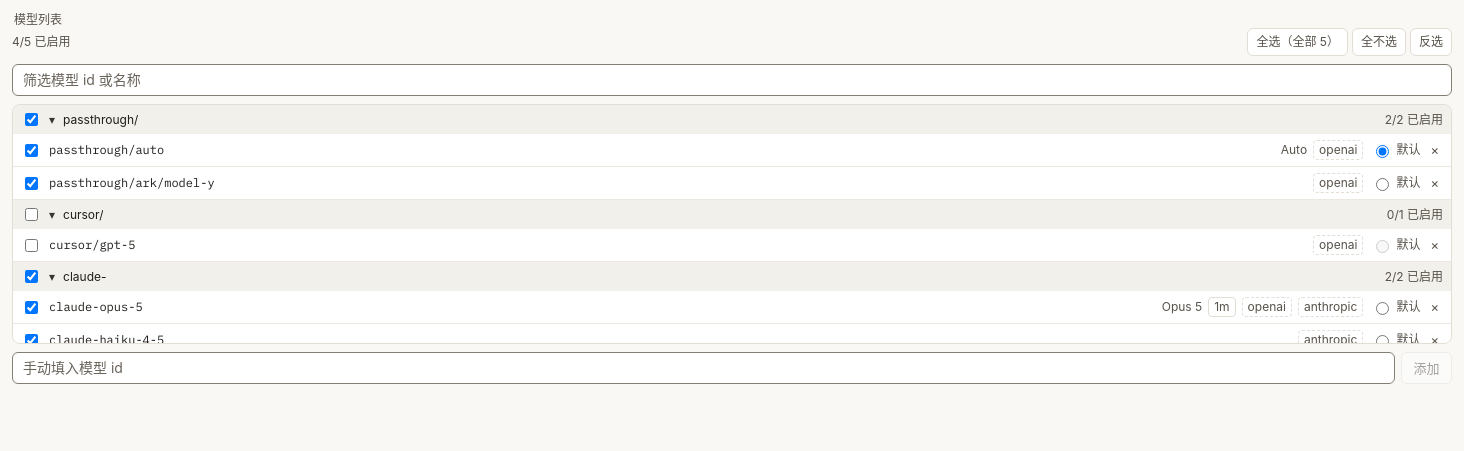
Test case: ModelList bulk controls › undoes one bulk action, including the default it moved
The width and height of the screenshot is (1464, 451).
Step 1. Click the button with test id "provider-models-none" → x=1379, y=42, box [1352,28,1406,56]
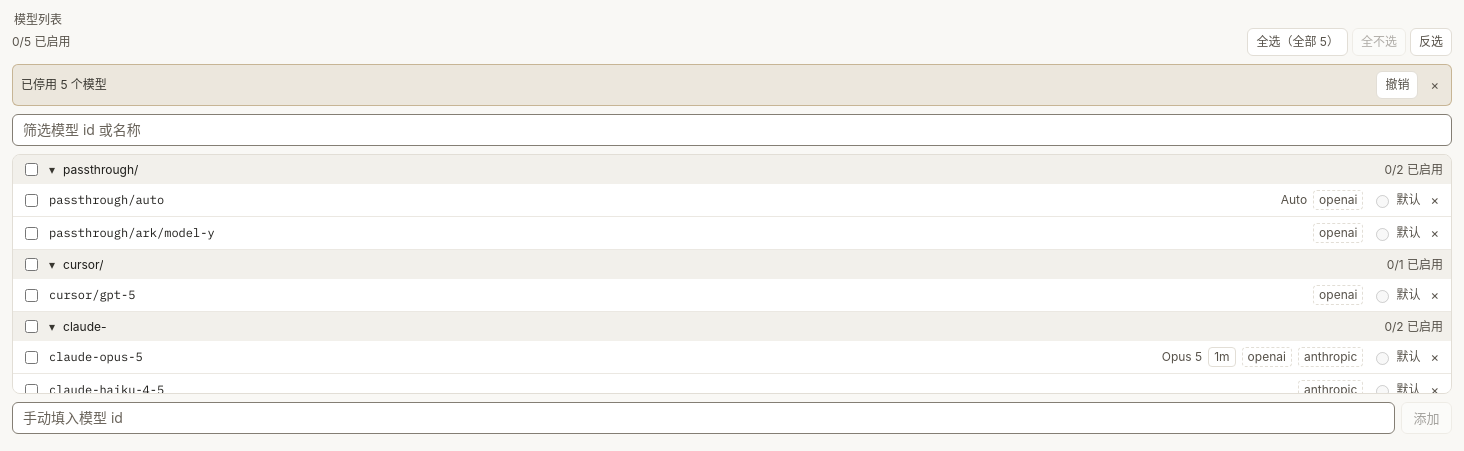
Now the message with test id "provider-models-undo" shows "已停用 5 个模型", box [21,77,107,92]
Step 2. Click the button with test id "provider-models-undo-button" → x=1397, y=85, box [1376,71,1418,99]
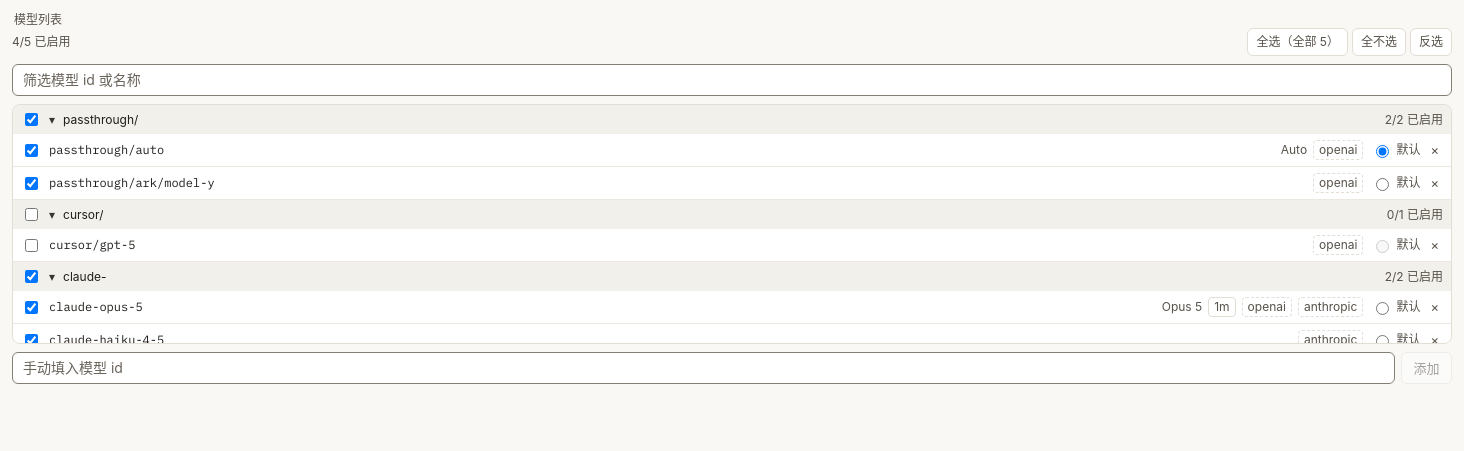
Now the message with test id "provider-models-undo" is gone
